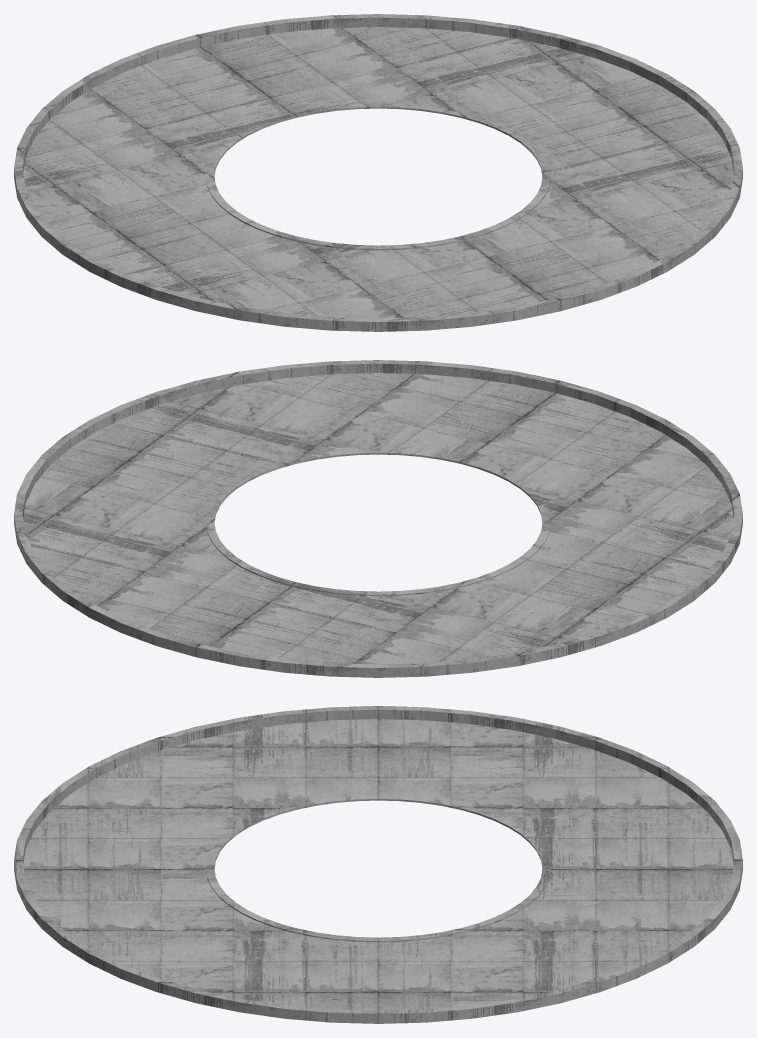
File: SM_Floor.fbx
The picture shows the model from 3 angles, top to bottom: view 1: azimuth 30°, elevation 25°; view 2: azimuth 150°, elevation 25°; view 3: azimuth 270°, elevation 25°; orthographic projection.
Parts seen in each view (by area): view 1: SM_Floor_LOD0; view 2: SM_Floor_LOD0; view 3: SM_Floor_LOD0.
Boxes of the visible parts, left/top/right/bottom form: SM_Floor_LOD0: left=14, top=14, right=742, bottom=331; SM_Floor_LOD0: left=14, top=360, right=742, bottom=677; SM_Floor_LOD0: left=14, top=706, right=742, bottom=1023.
Bounding box in the file's own units: 4022 × 4022 × 60.
1 material, 1 textured.
